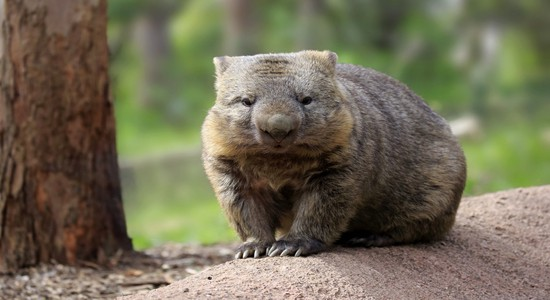Wombat: (199, 50, 468, 259)
